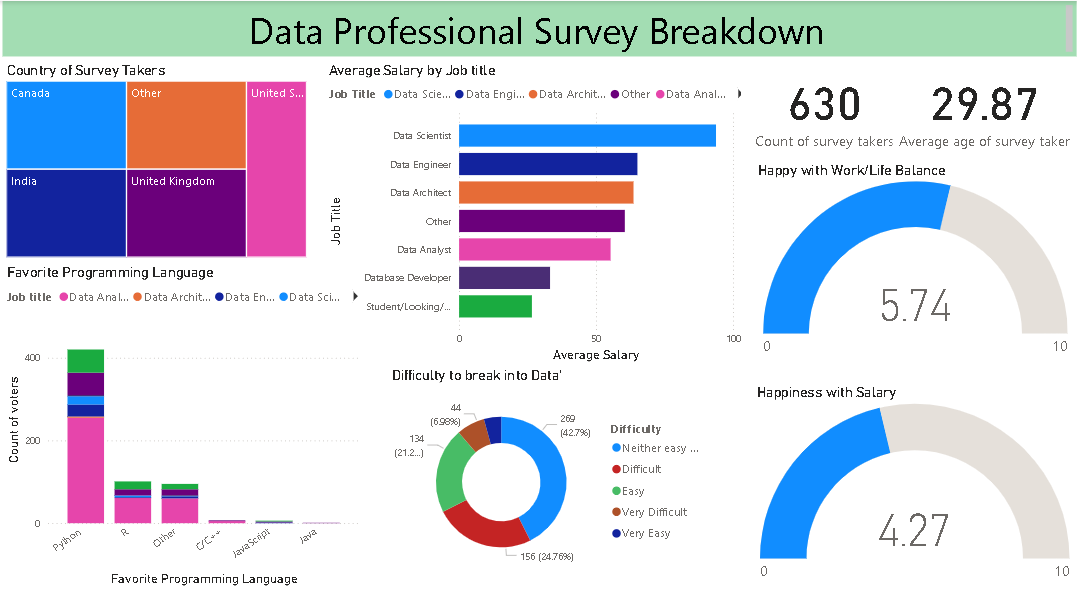

The dashboard page shown, as its layout file describes it:
{"tool":"powerbi","page":{"name":"Page 1","canvas":[1280,720],"ordinal":0},"visuals":[{"type":"textbox","box":[9.6,0,1270.7,65.9],"z":0},{"type":"card","fields":{"Values":["CountNonNull(Data Professional Survey.Unique ID)"]},"box":[885.6,66,190.6,120.1],"z":1000},{"type":"card","fields":{"Values":["Avg(Data Professional Survey.Q10 - Current Age)"]},"box":[1076.2,66,204.1,120.1],"z":2000},{"type":"barChart","title":"Average Salary by Job title","fields":{"Category":["Data Professional Survey.Q1 - Which Title Best Fits your Current Role?.1"],"Y":["Avg(Data Professional Survey.Average Salary)"],"Series":["Data Professional Survey.Q1 - Which Title Best Fits your Current Role?.1"]},"box":[390.2,70.5,496.8,360.2],"z":3000},{"type":"columnChart","title":"Favorite Programming Language","fields":{"Category":["Data Professional Survey.Q5 - Favorite Programming Language.1"],"Y":["CountNonNull(Data Professional Survey.Unique ID)"],"Series":["Data Professional Survey.Q1 - Which Title Best Fits your Current Role?.1"]},"box":[9,339.2,427.8,357.2],"z":4000},{"type":"treemap","title":"Country of Survey Takers","fields":{"Group":["Data Professional Survey.Q11 - Which Country do you live in?.1"],"Values":["Count(Data Professional Survey.Q11 - Which Country do you live in?.1)"]},"box":[9,70.5,364.7,237.1],"z":5000},{"type":"gauge","title":"Happy with Work/Life Balance","fields":{"Y":["Avg(Data Professional Survey.Q6 - How Happy are you in your Current Position with the following? (Work/Life Balance))"],"MinValue":["Min(Data Professional Survey.Q6 - How Happy are you in your Current Position with the following? (Work/Life Balance))"],"MaxValue":["Max(Data Professional Survey.Q6 - How Happy are you in your Current Position with the following? (Work/Life Balance))1"]},"box":[897.6,189.1,382.7,241.7],"z":5001},{"type":"gauge","title":"Happiness with Salary","fields":{"Y":["Avg(Data Professional Survey.Q6 - How Happy are you in your Current Position with the following? (Salary))"],"MinValue":["Min(Data Professional Survey.Q6 - How Happy are you in your Current Position with the following? (Salary))"],"MaxValue":["Max(Data Professional Survey.Q6 - How Happy are you in your Current Position with the following? (Salary))"]},"box":[896.1,451.8,384.2,244.7],"z":5002},{"type":"donutChart","title":"Difficulty to break into Data''","fields":{"Category":["Data Professional Survey.Q7 - How difficult was it for you to break into Data?"],"Series":["Data Professional Survey.Q7 - How difficult was it for you to break into Data?"],"Y":["CountNonNull(Data Professional Survey.Q7 - How difficult was it for you to break into Data?)"]},"box":[465.3,451.8,379.7,235.6],"z":5003}]}

Visuals, with their boxes in screenshot pixels (x1, y1, x2, y2), scaled from the page's 1280x720 canvas onto the 1077x610 screenshot:
textbox: pyautogui.locateOnScreen(8, 0, 1076, 56)
card - CountNonNull(Data Professional Survey.Unique ID): pyautogui.locateOnScreen(745, 56, 906, 158)
card - Avg(Data Professional Survey.Q10 - Current Age): pyautogui.locateOnScreen(906, 56, 1076, 158)
"Average Salary by Job title" barChart: pyautogui.locateOnScreen(328, 60, 746, 365)
"Favorite Programming Language" columnChart: pyautogui.locateOnScreen(8, 287, 368, 590)
"Country of Survey Takers" treemap: pyautogui.locateOnScreen(8, 60, 314, 261)
"Happy with Work/Life Balance" gauge: pyautogui.locateOnScreen(755, 160, 1076, 365)
"Happiness with Salary" gauge: pyautogui.locateOnScreen(754, 383, 1076, 590)
"Difficulty to break into Data''" donutChart: pyautogui.locateOnScreen(392, 383, 711, 582)
